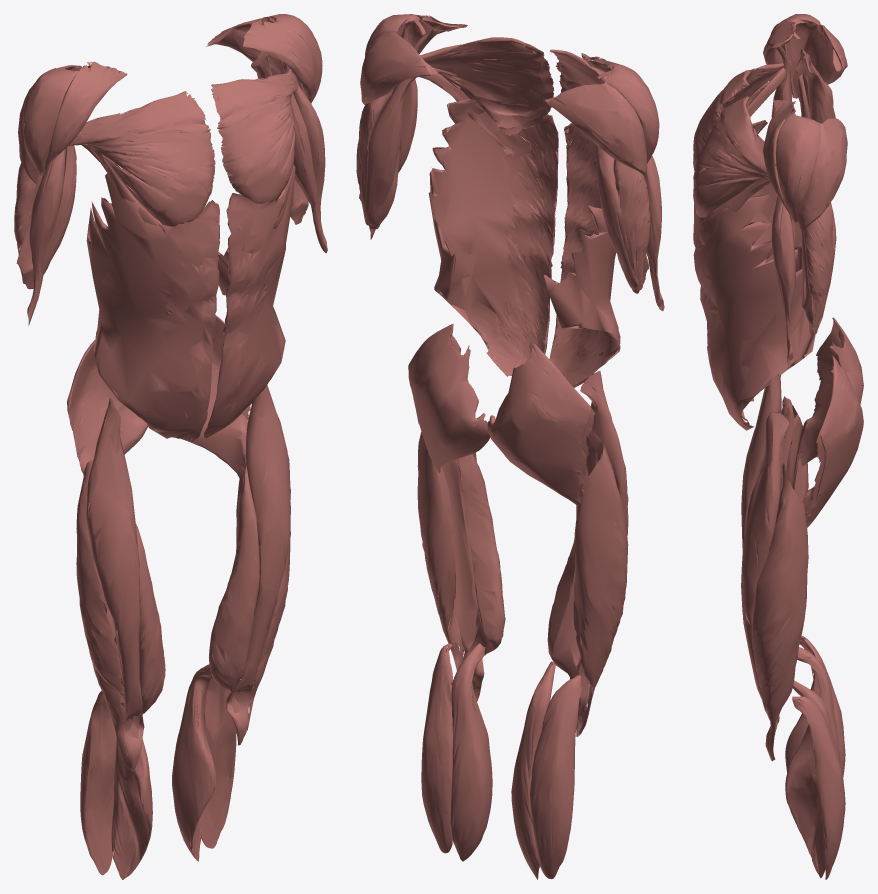
Rendered from anatomy-muscles.glb.
The picture shows the model from 3 angles, left to right: view 1: azimuth 30°, elevation 25°; view 2: azimuth 150°, elevation 25°; view 3: azimuth 270°, elevation 25°; orthographic projection. The views are drawn at different scales.
Parts seen in each view (by area): view 1: abdomen, quadriceps, pectoralis, calf, deltoid, biceps, gluteus, triceps; view 2: abdomen, quadriceps, calf, gluteus, deltoid, pectoralis, triceps, biceps; view 3: quadriceps, abdomen, deltoid, calf, pectoralis, gluteus, triceps, biceps.
Boxes of the visible parts, <box> form: abdomen: <box>86,164,295,441</box>; quadriceps: <box>76,385,290,771</box>; pectoralis: <box>67,69,297,231</box>; calf: <box>80,664,236,879</box>; deltoid: <box>18,14,322,184</box>; biceps: <box>27,61,327,325</box>; gluteus: <box>67,315,250,484</box>; triceps: <box>14,52,308,289</box>; abdomen: <box>428,98,620,387</box>; quadriceps: <box>417,335,628,736</box>; calf: <box>421,643,582,879</box>; gluteus: <box>408,324,595,506</box>; deltoid: <box>360,14,659,177</box>; pectoralis: <box>420,37,608,170</box>; triceps: <box>356,77,650,293</box>; biceps: <box>369,20,664,311</box>; quadriceps: <box>741,375,808,761</box>; abdomen: <box>693,120,815,430</box>; deltoid: <box>763,14,847,233</box>; calf: <box>785,636,845,879</box>; pectoralis: <box>693,60,791,244</box>; gluteus: <box>794,317,863,527</box>; triceps: <box>798,49,836,336</box>; biceps: <box>771,32,800,365</box>.
Size of the model in its own units: 2.3 by 6.16 by 1.2.
